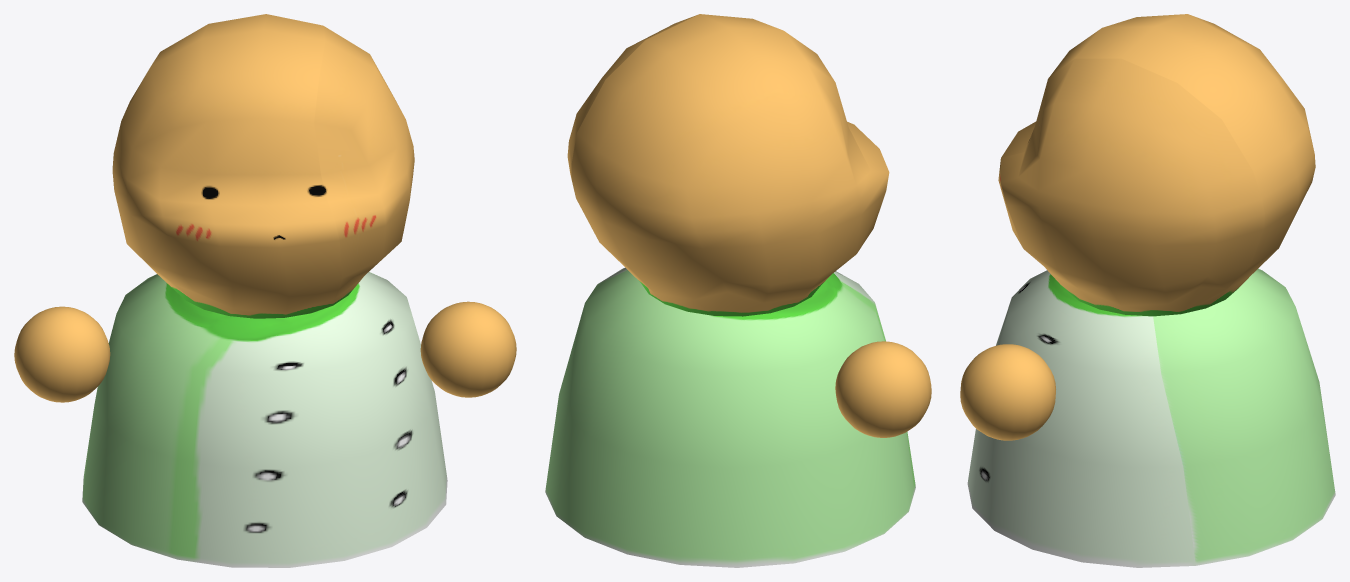
File: charactergreen.obj
3 views of the same model, side by side, from view 1: azimuth 30°, elevation 25°; view 2: azimuth 150°, elevation 25°; view 3: azimuth 270°, elevation 25° (orthographic).
Parts seen in each view (by area): view 1: polySurface4 polySurface7, polySurface5 polySurface4, polySurface4 polySurface6; view 2: polySurface4 polySurface7, polySurface4 polySurface6; view 3: polySurface4 polySurface7, polySurface5 polySurface4.
Boxes of the visible parts, x1,y1,x2,y2 form: polySurface4 polySurface7: (82,14,447,567); polySurface5 polySurface4: (420,301,516,397); polySurface4 polySurface6: (14,306,110,402); polySurface4 polySurface7: (545,14,915,567); polySurface4 polySurface6: (835,341,931,437); polySurface4 polySurface7: (967,14,1335,567); polySurface5 polySurface4: (960,344,1055,440).
Size of the model in its own units: 2.04 by 2.28 by 1.68.
Materials: 3 (3 with a texture image).
